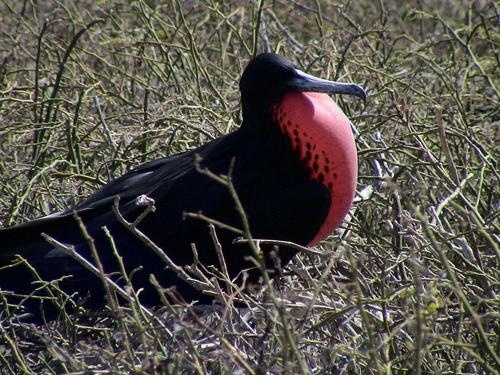bird: (18, 57, 371, 318)
